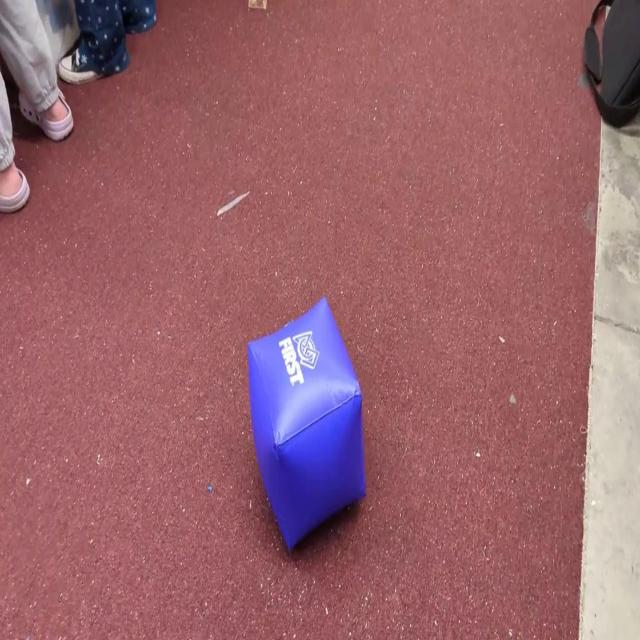frc_cube: (248, 297, 366, 556)
